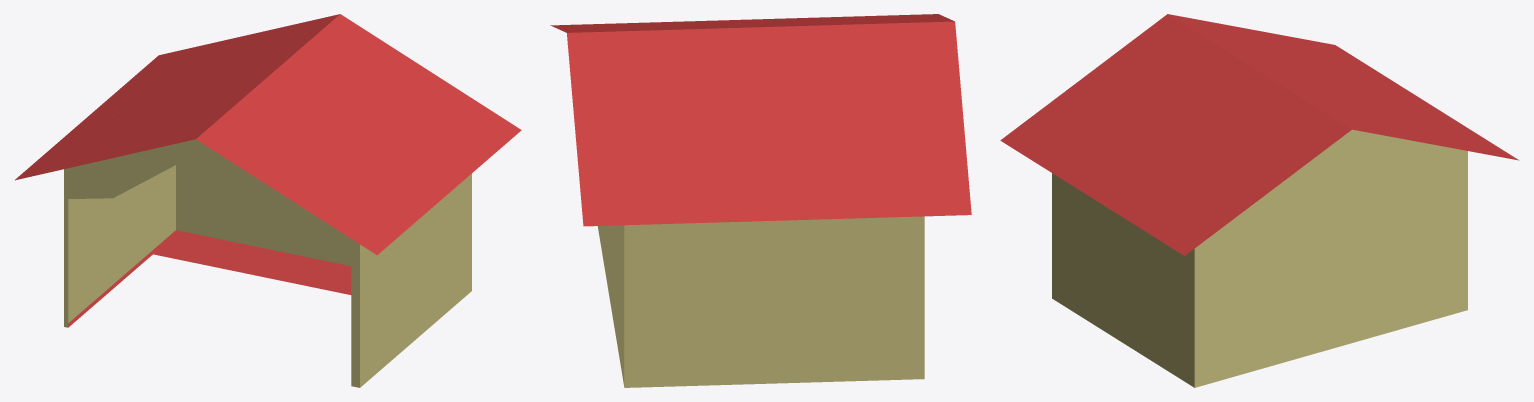
3 views of the same model, side by side, from view 1: azimuth 30°, elevation 25°; view 2: azimuth 150°, elevation 25°; view 3: azimuth 270°, elevation 25° (orthographic). The views are drawn at different scales.
Size of the model in its own units: 20.02 by 20.82 by 10.28.
